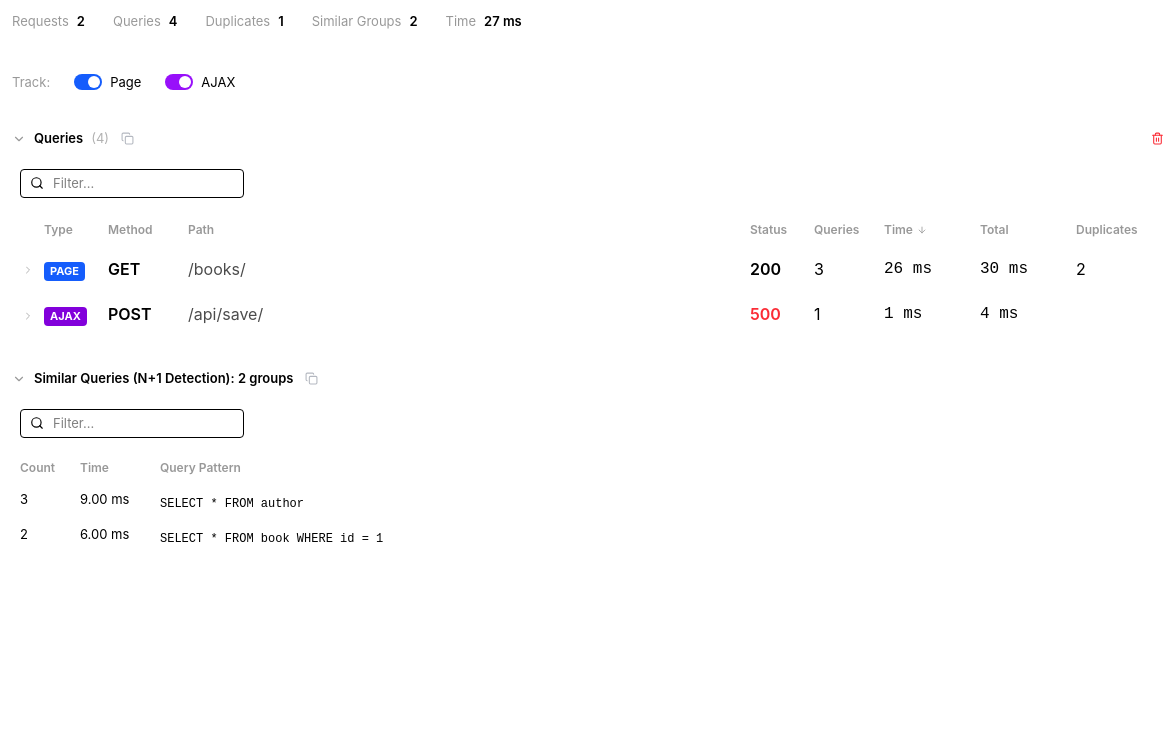
Scenario: QueriesPanel statement detail › opens a statement in detail and closes it again
This screenshot has width=1176, height=732.
Click the row with class "cursor-pointer" that starts with "PAGE": (588, 269) [12,246,1164,292]
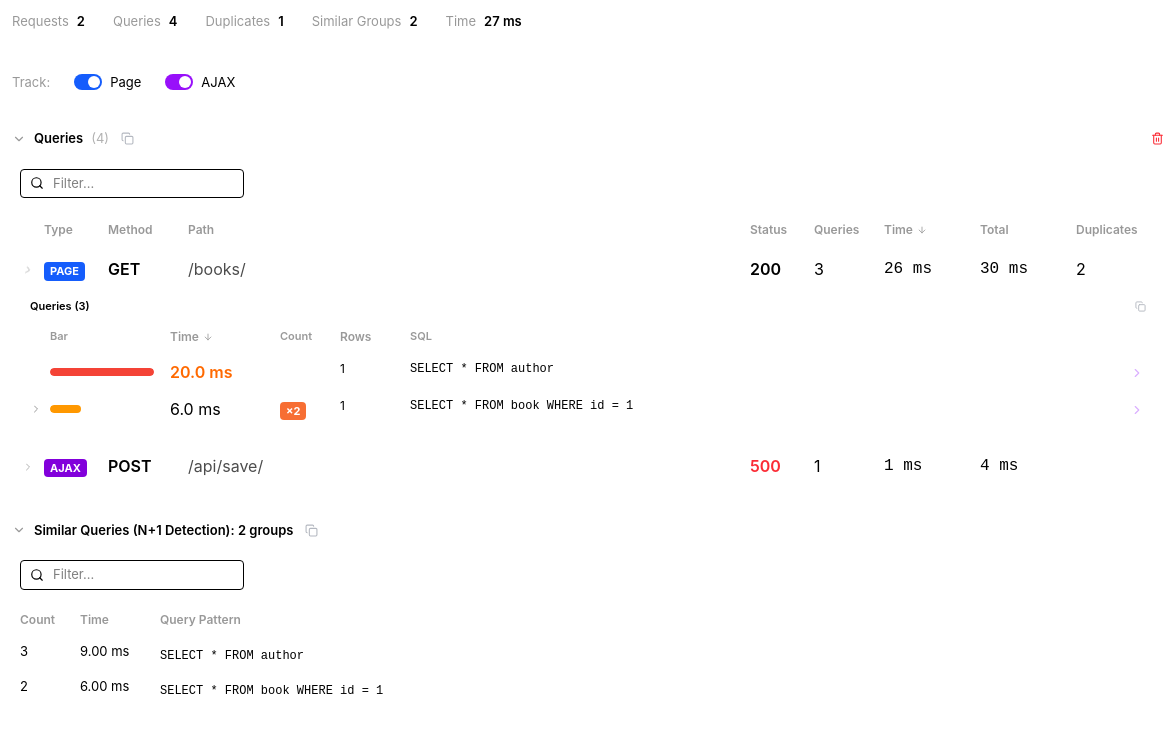
Click the cell "SELECT * FROM book WHERE id = 1" in the row of "6.0 ms": (762, 408) [402,390,1122,426]
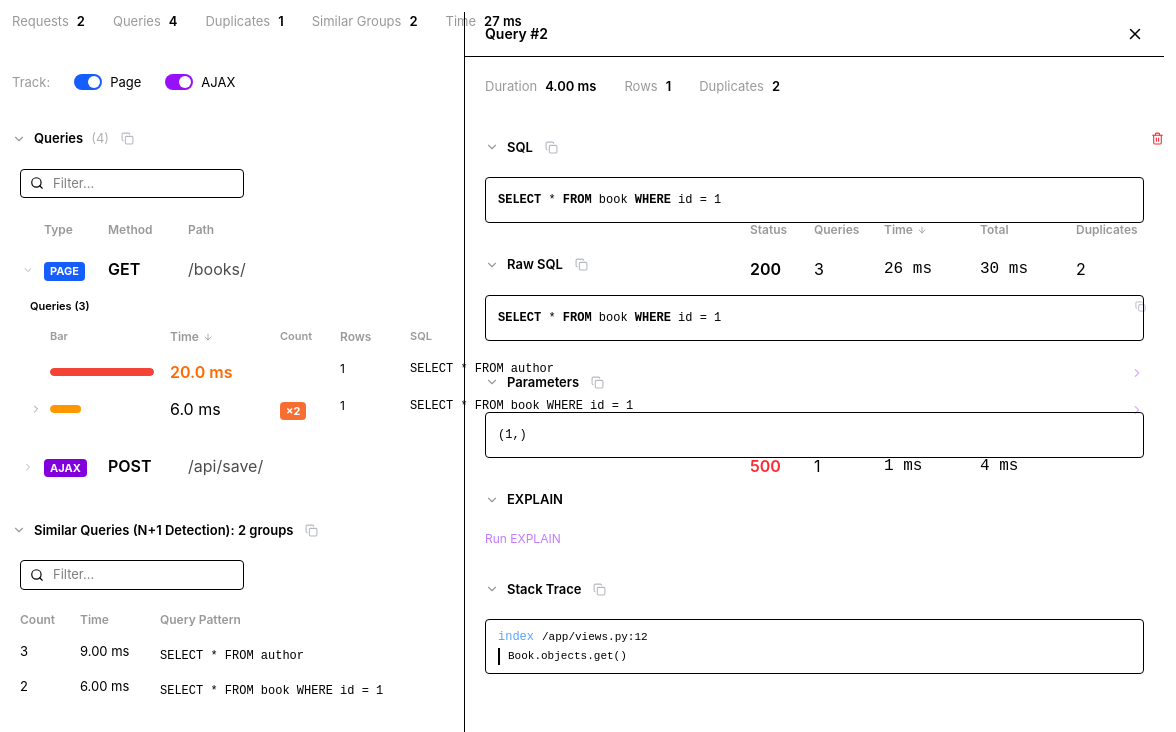
Result: the text "Query #" is shown at [485,25,548,42]
Click the button named "Close the query": (1135, 34) [1126,25,1144,43]
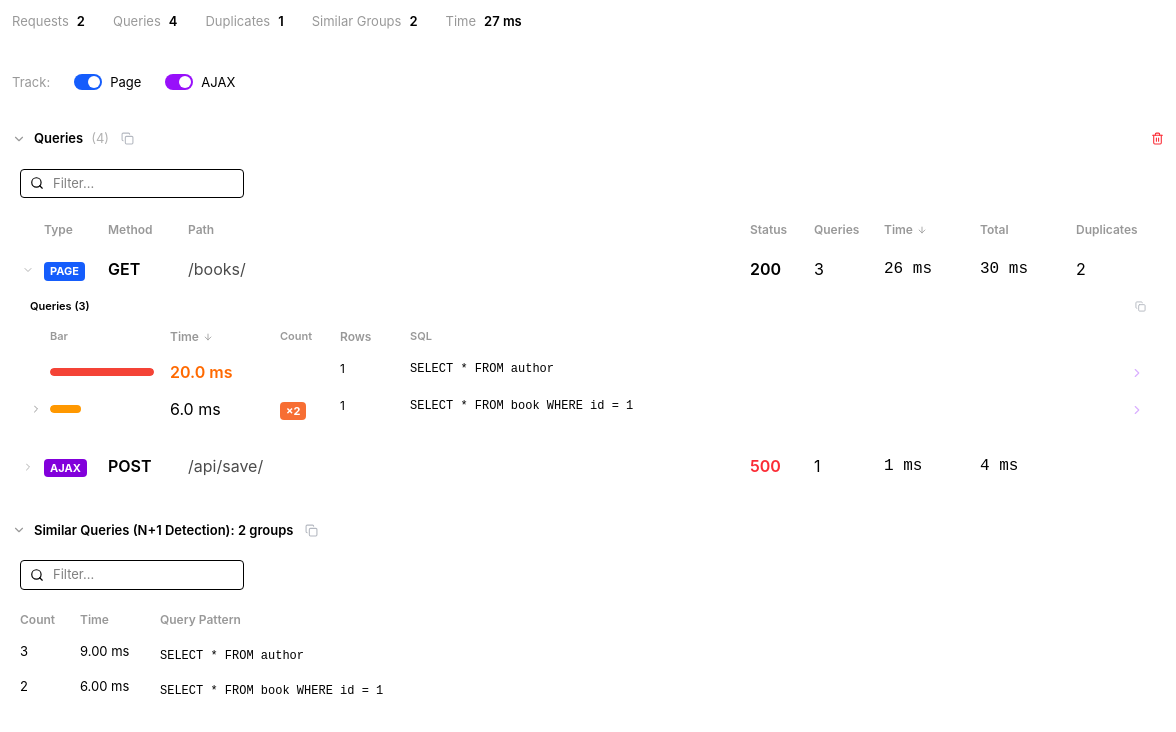
Result: the text "Query #" is gone
